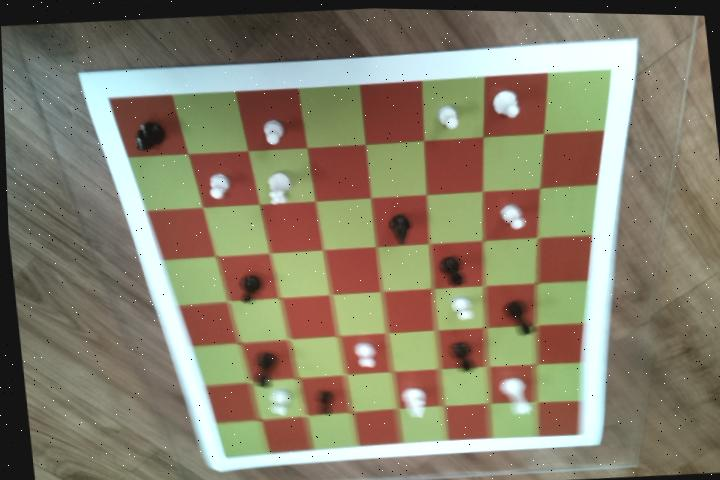chessboard-detect: (108, 62, 614, 457)
